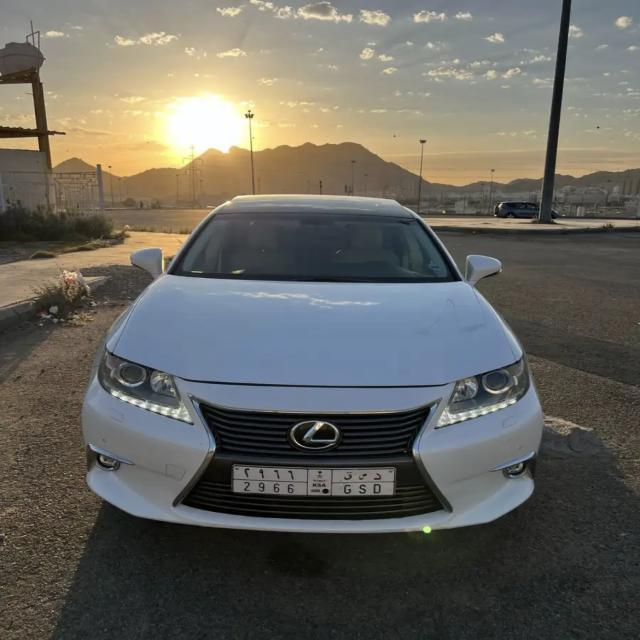license_plate: (231, 462, 397, 498)
